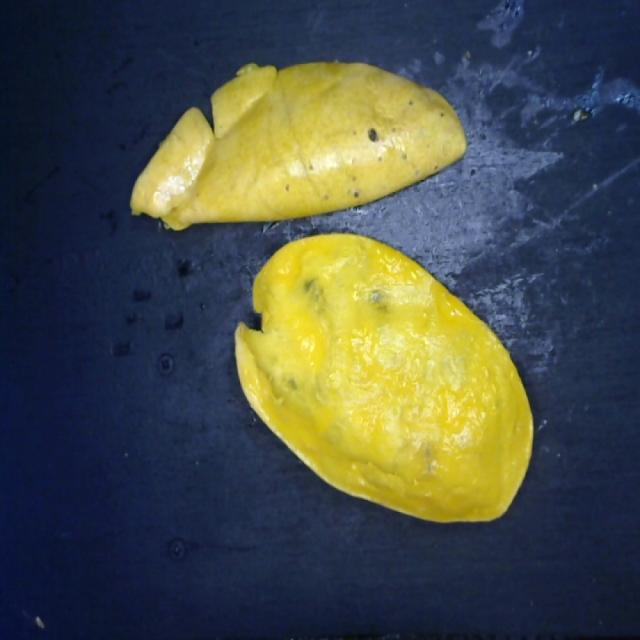biodegradable: (124, 53, 550, 528)
